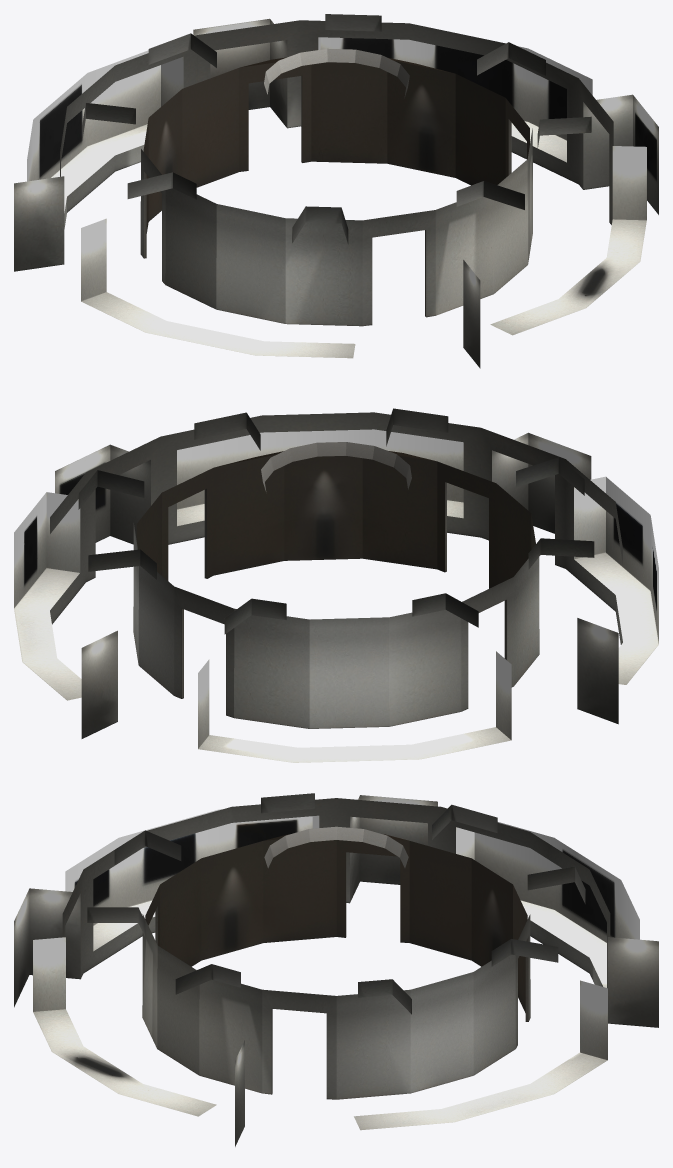
3 renders of one model, top to bottom at view 1: azimuth 30°, elevation 25°; view 2: azimuth 150°, elevation 25°; view 3: azimuth 270°, elevation 25°, orthographic. The views are drawn at different scales.
Parts seen in each view (by area): view 1: GalleryWalls; view 2: GalleryWalls; view 3: GalleryWalls.
Part boxes in pixels (left/top/right/bottom): GalleryWalls: left=14, top=14, right=658, bottom=368; GalleryWalls: left=14, top=408, right=658, bottom=762; GalleryWalls: left=14, top=793, right=658, bottom=1146.
Bounding box in the file's own units: 1686 × 464 × 1688.
1 material, 1 textured.
